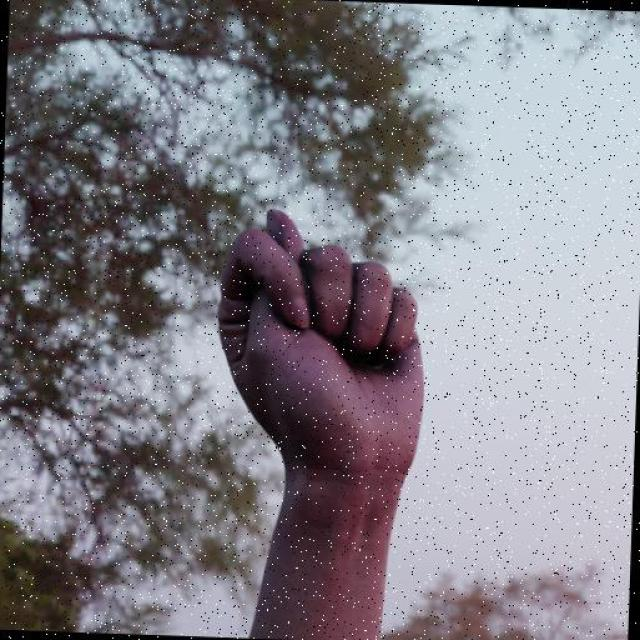T: (206, 201, 435, 483)
